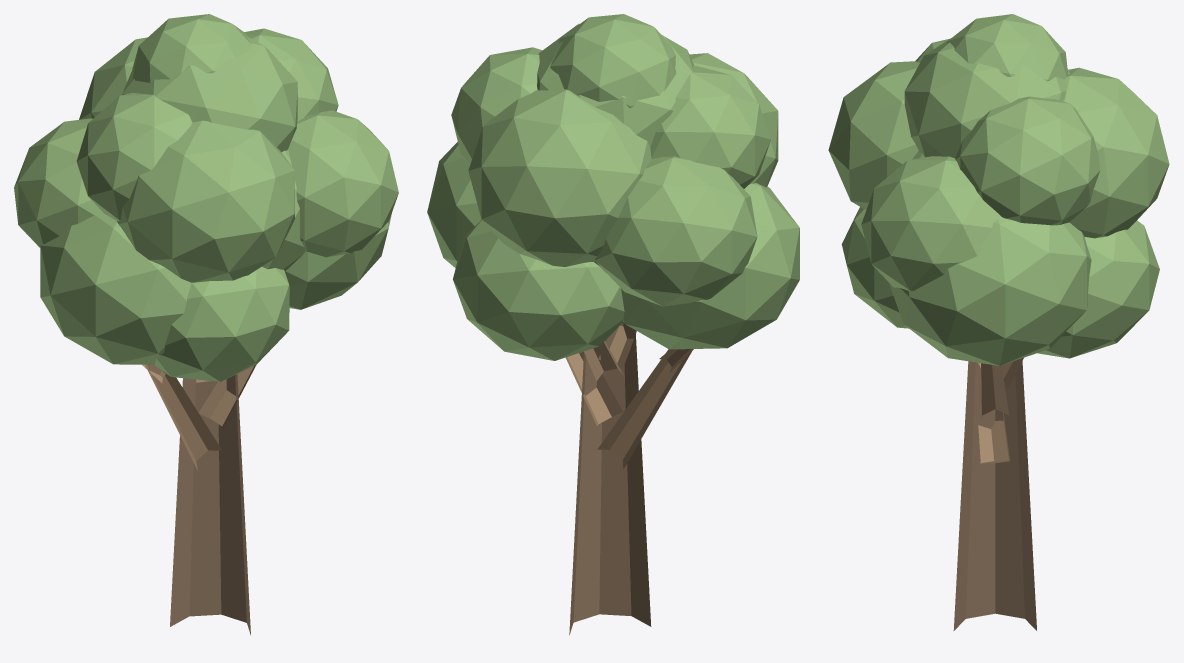
Rendered from quillay.glb.
3 renders of one model, left to right at view 1: azimuth 30°, elevation 25°; view 2: azimuth 150°, elevation 25°; view 3: azimuth 270°, elevation 25°, orthographic.
Parts seen in each view (by area): view 1: Follaje, Tronco, Ramas; view 2: Follaje, Tronco, Ramas; view 3: Follaje, Tronco, Ramas.
Part boxes in pixels (bbox=[...]): Follaje: bbox=[14, 14, 398, 381]; Tronco: bbox=[170, 374, 250, 635]; Ramas: bbox=[142, 364, 256, 471]; Follaje: bbox=[427, 14, 799, 360]; Tronco: bbox=[569, 322, 651, 635]; Ramas: bbox=[565, 325, 693, 469]; Follaje: bbox=[828, 14, 1169, 365]; Tronco: bbox=[953, 361, 1036, 630]; Ramas: bbox=[978, 358, 1023, 463].
Bounding box in the file's own units: 1.74 × 3.05 × 1.55.
